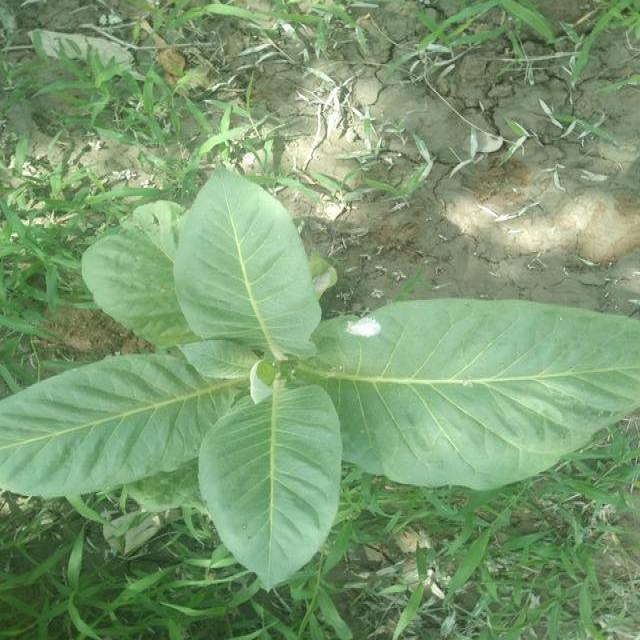crop: (14, 176, 639, 585)
